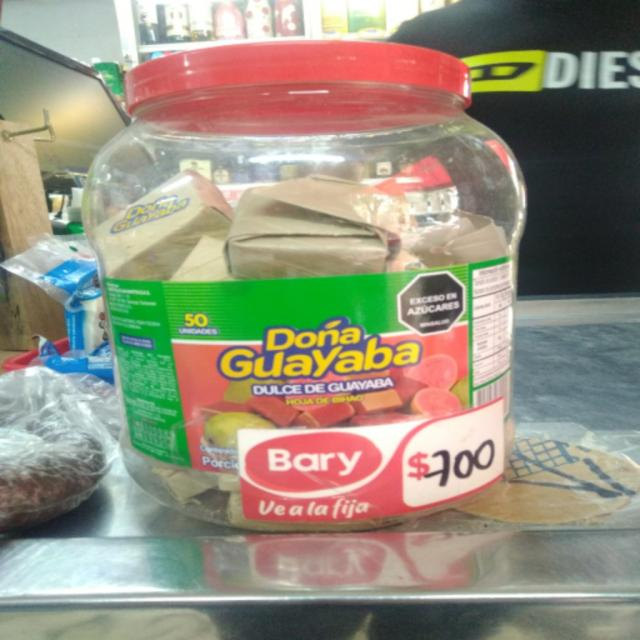Guayaba_lonja: (93, 172, 238, 290)
Precio: (407, 423, 508, 498)
